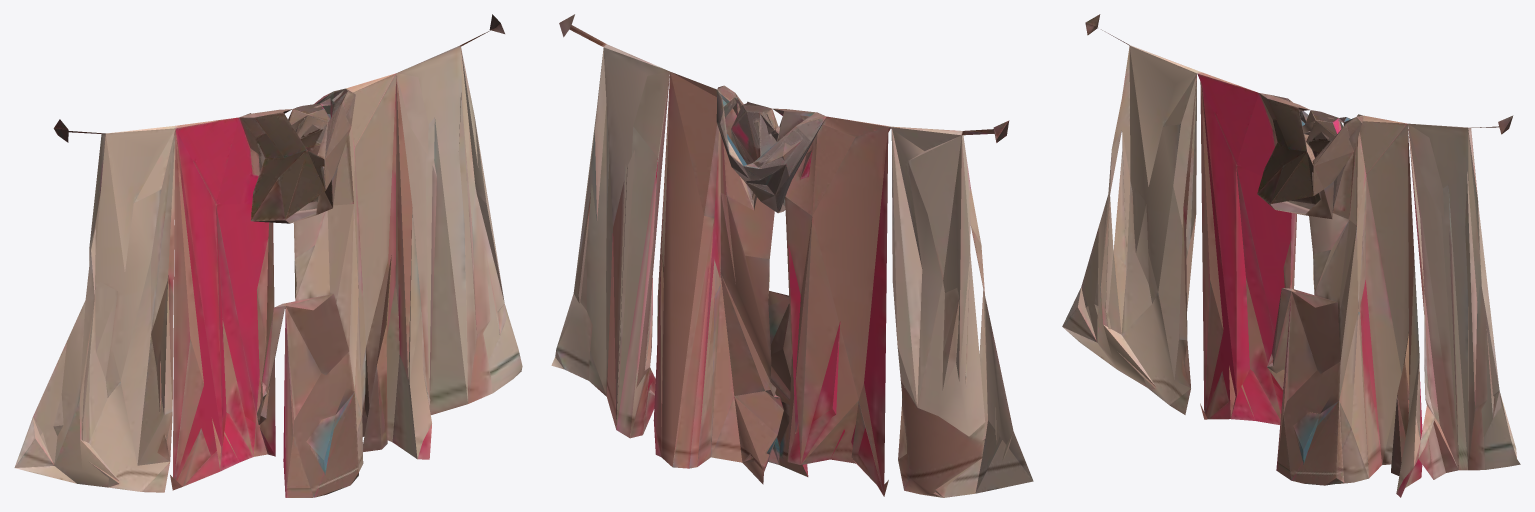
The model's file is laundry_curtain.glb.
3 renders of one model, left to right at view 1: azimuth 30°, elevation 25°; view 2: azimuth 150°, elevation 25°; view 3: azimuth 330°, elevation 25°, orthographic. The views are drawn at different scales.
Size of the model in its own units: 1.9 by 1.55 by 0.2998.
1 material, 1 textured.
